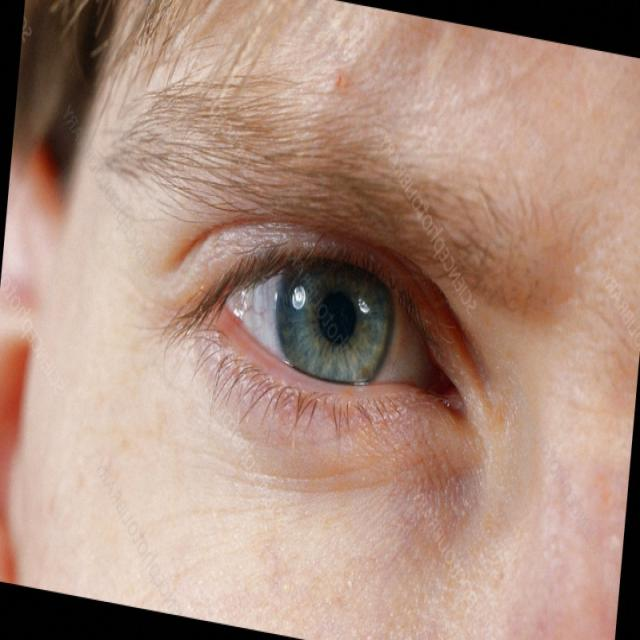Healthy-Eye: (154, 149, 510, 528)
